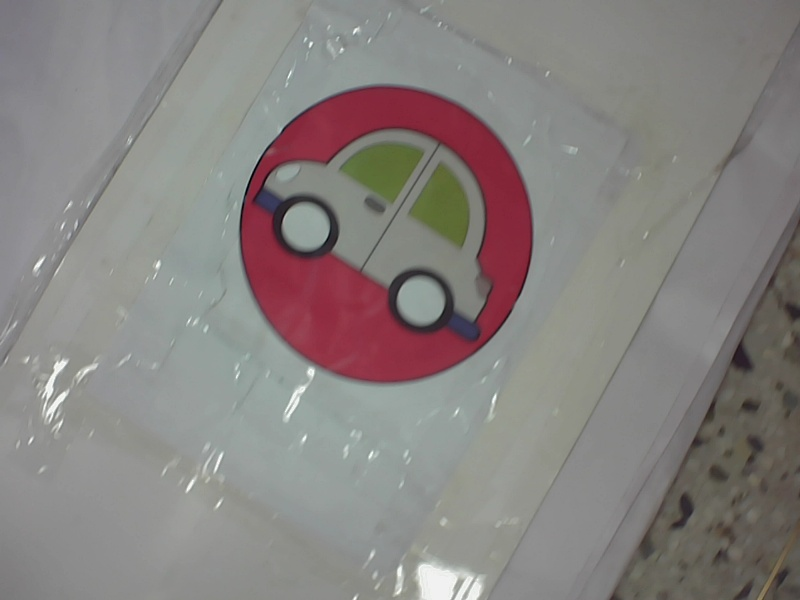areaC: (228, 82, 540, 388)
